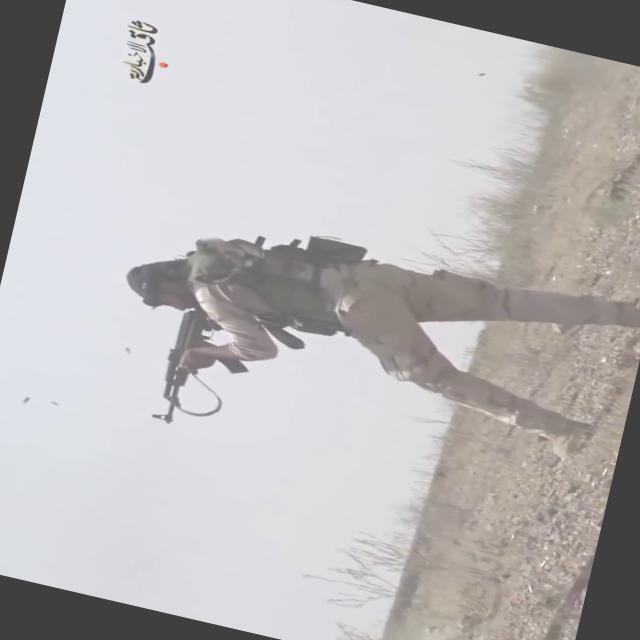long weapon: (138, 304, 260, 446)
